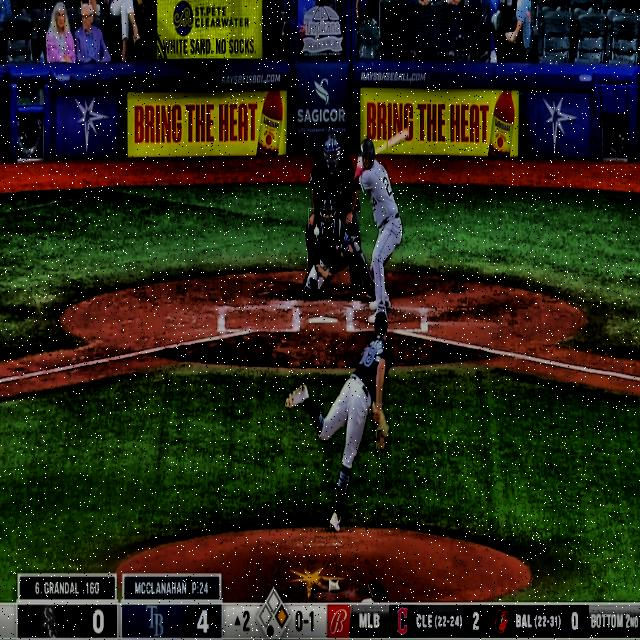baseball: (314, 226, 319, 236)
